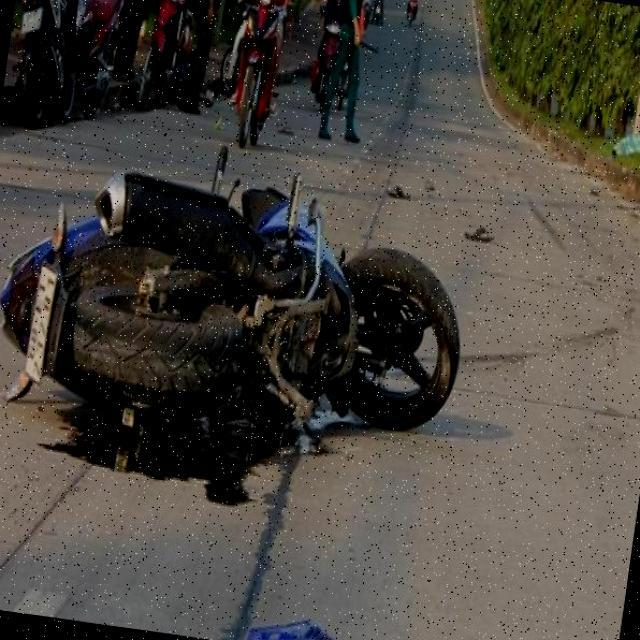accident: (0, 101, 520, 518)
